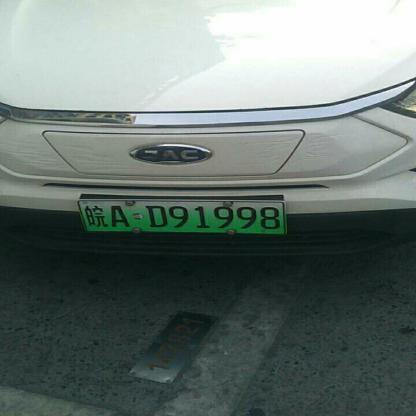lp: (78, 200, 287, 234)
